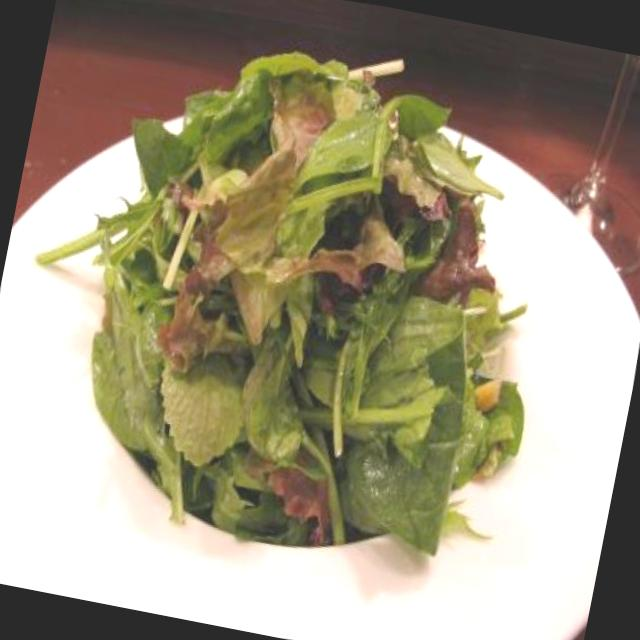Green Salad: (64, 48, 540, 534)
